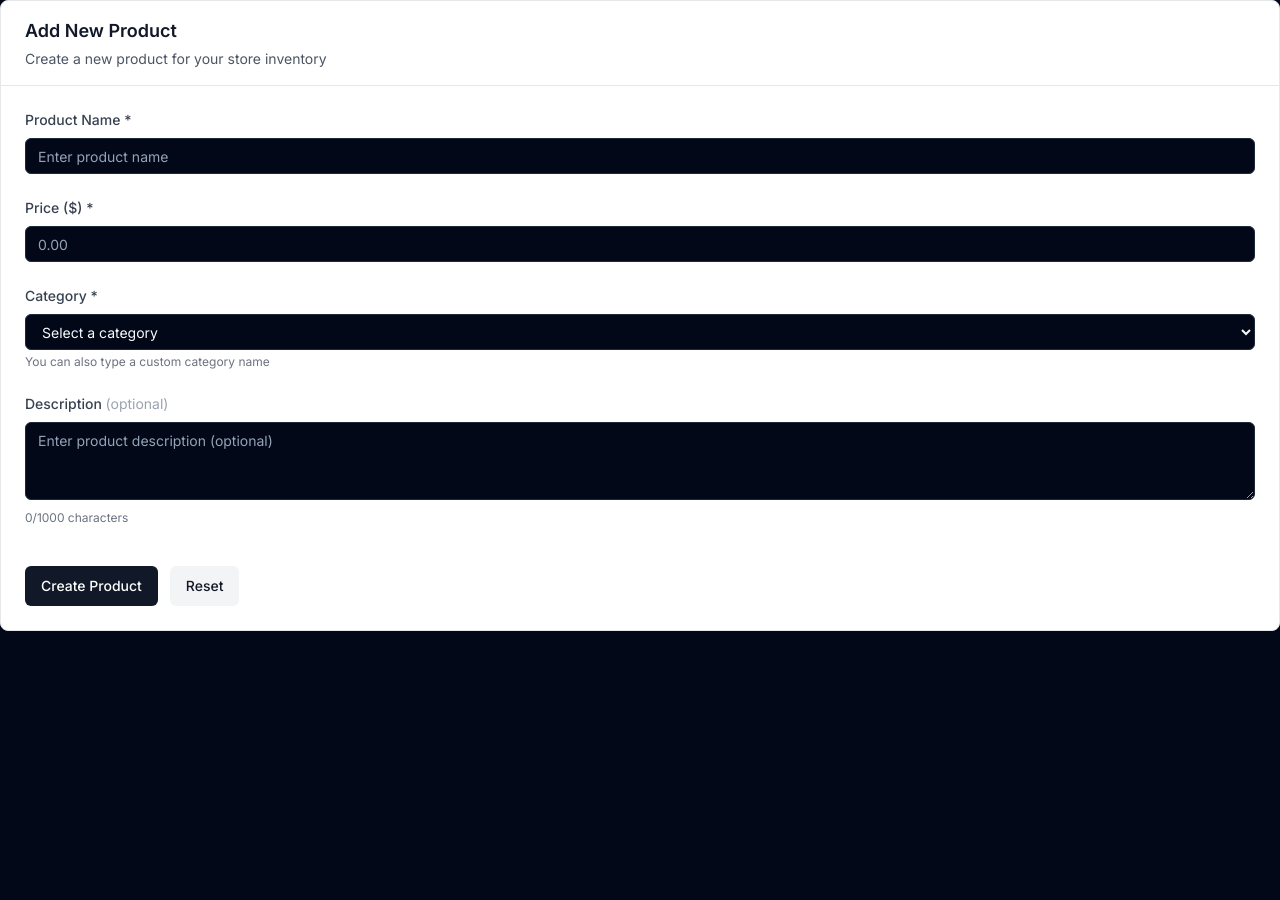
it: ProductForm › resets form when reset button is clicked
This screenshot has width=1280, height=900.
Note: Fill form
Type "Test Product" into the field labelled "Product Name *".
click(640, 156); type("Test Product")  # box [25,138,1255,174]
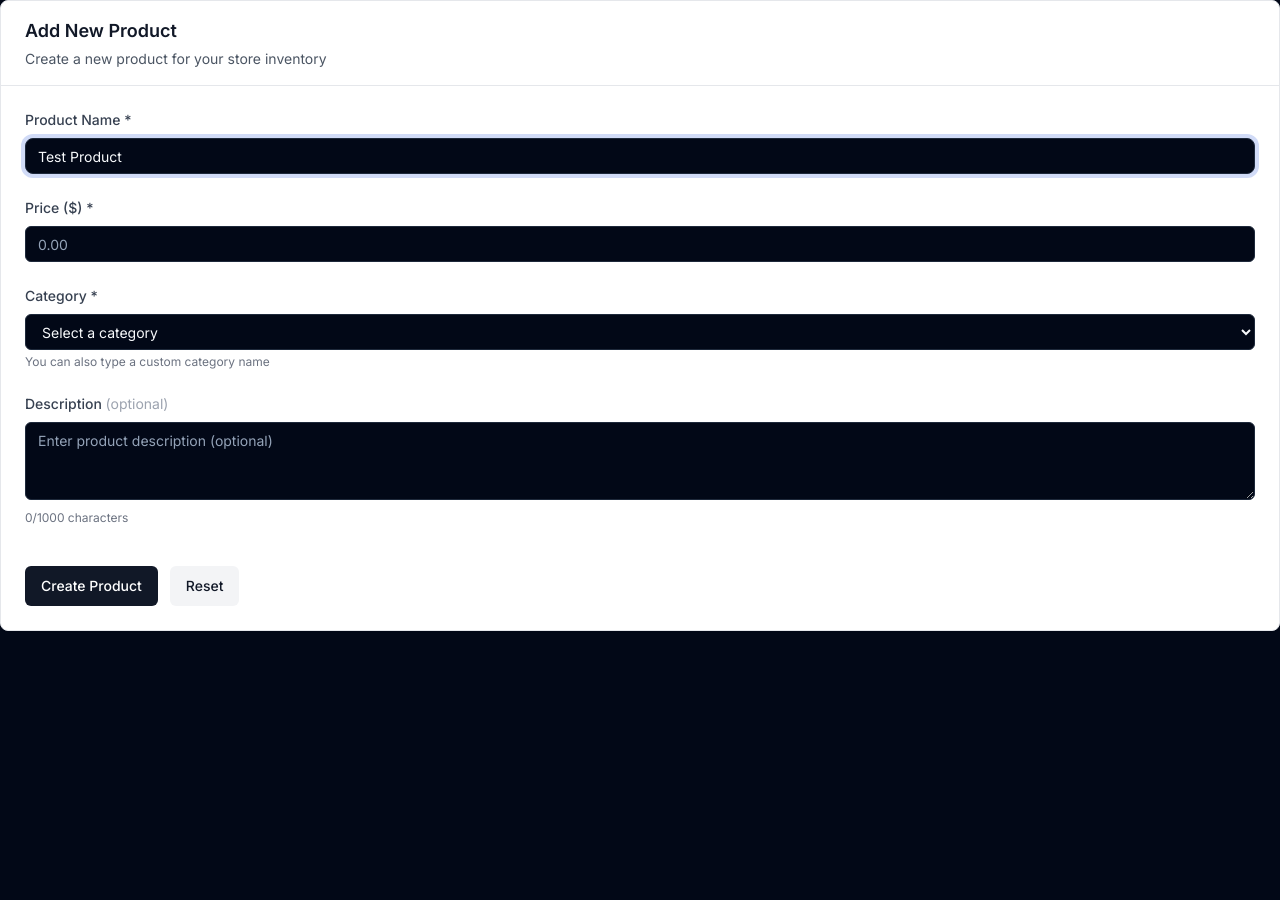
Type "19.99" into the field labelled "Price ($) *".
click(640, 244); type("19.99")  # box [25,226,1255,262]
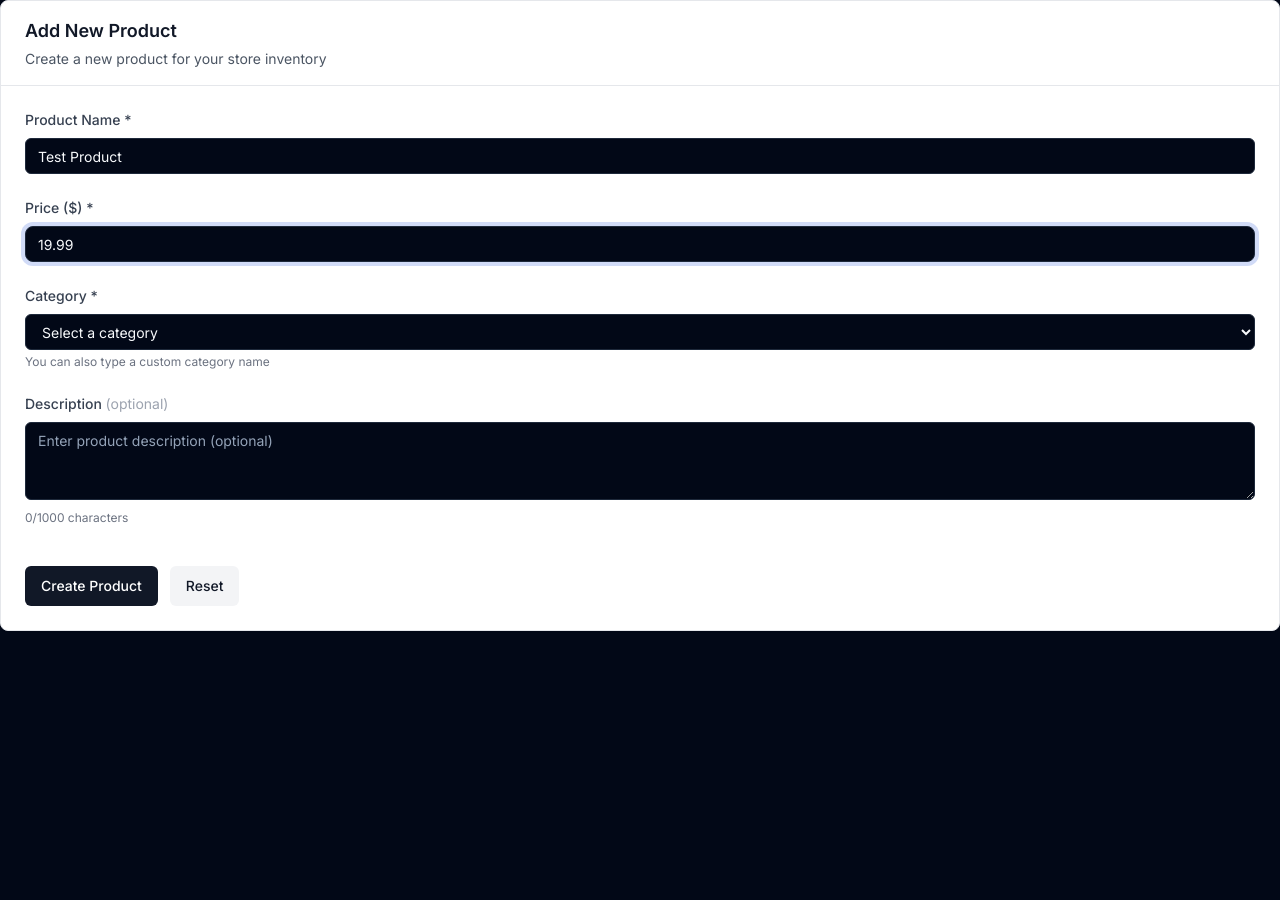
Select "Food & Beverages" in the dropdown labelled "Category *" at (640, 332), box [25,314,1255,350]
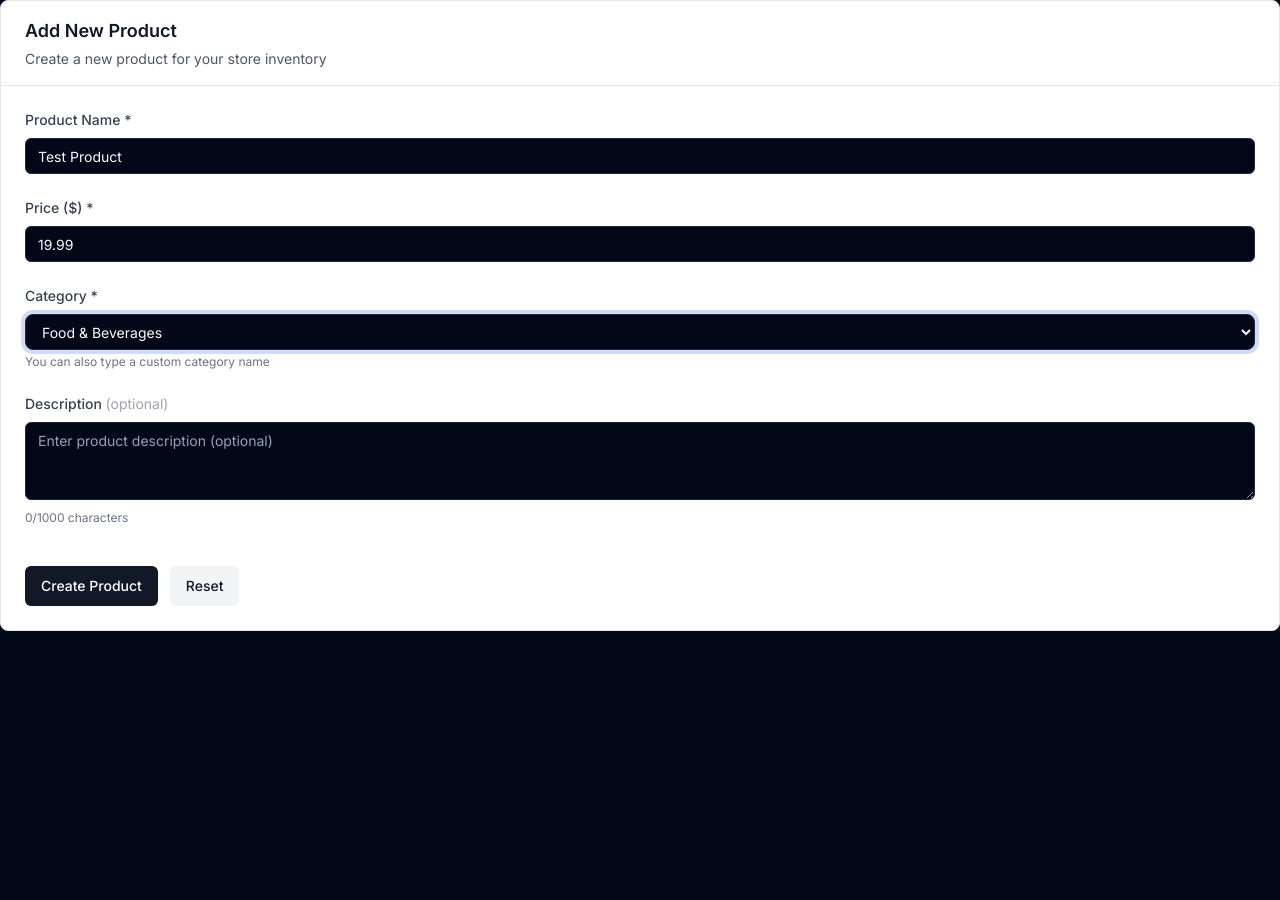
Note: Reset form
Click the button "Reset".
click(205, 586)  # box [170,566,239,606]
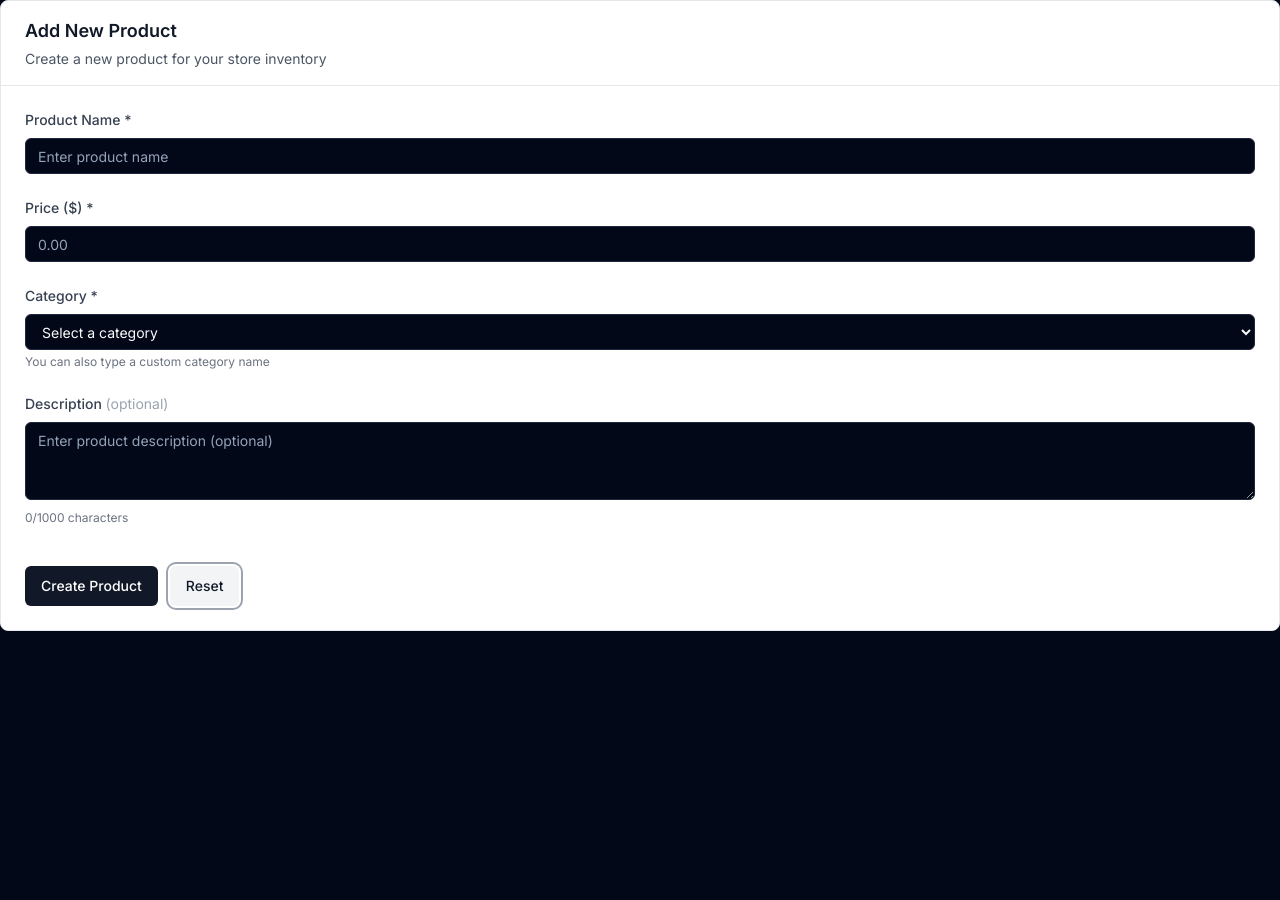
Expected: the text box labelled "Description (optional)" is empty, [25,422,1255,500]
Now the field labelled "Product Name *" is empty, box [25,138,1255,174]
Now the field labelled "Price ($) *" is empty, box [25,226,1255,262]
